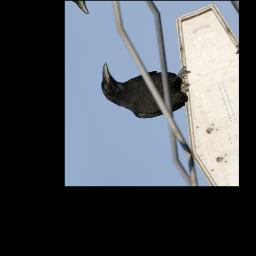Crow: (93, 33, 201, 136)
